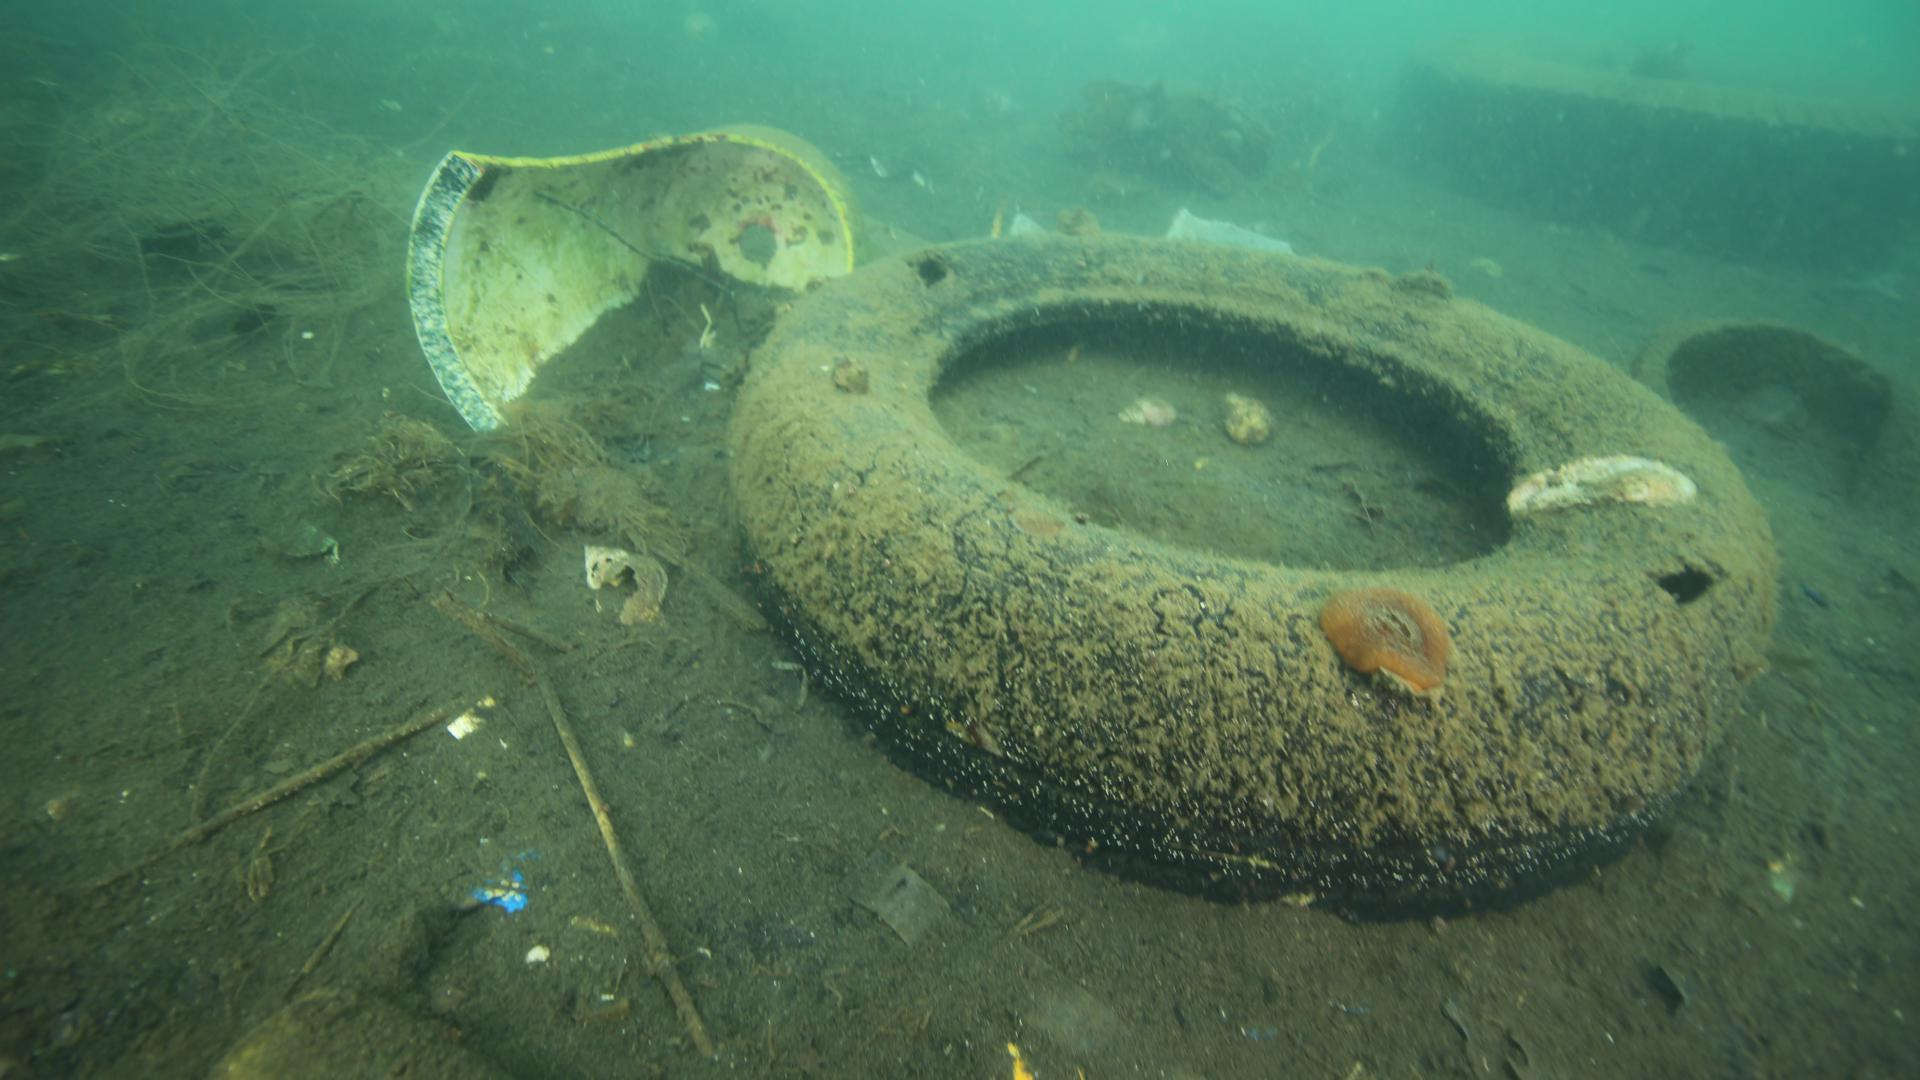tire: (724, 227, 1785, 903)
